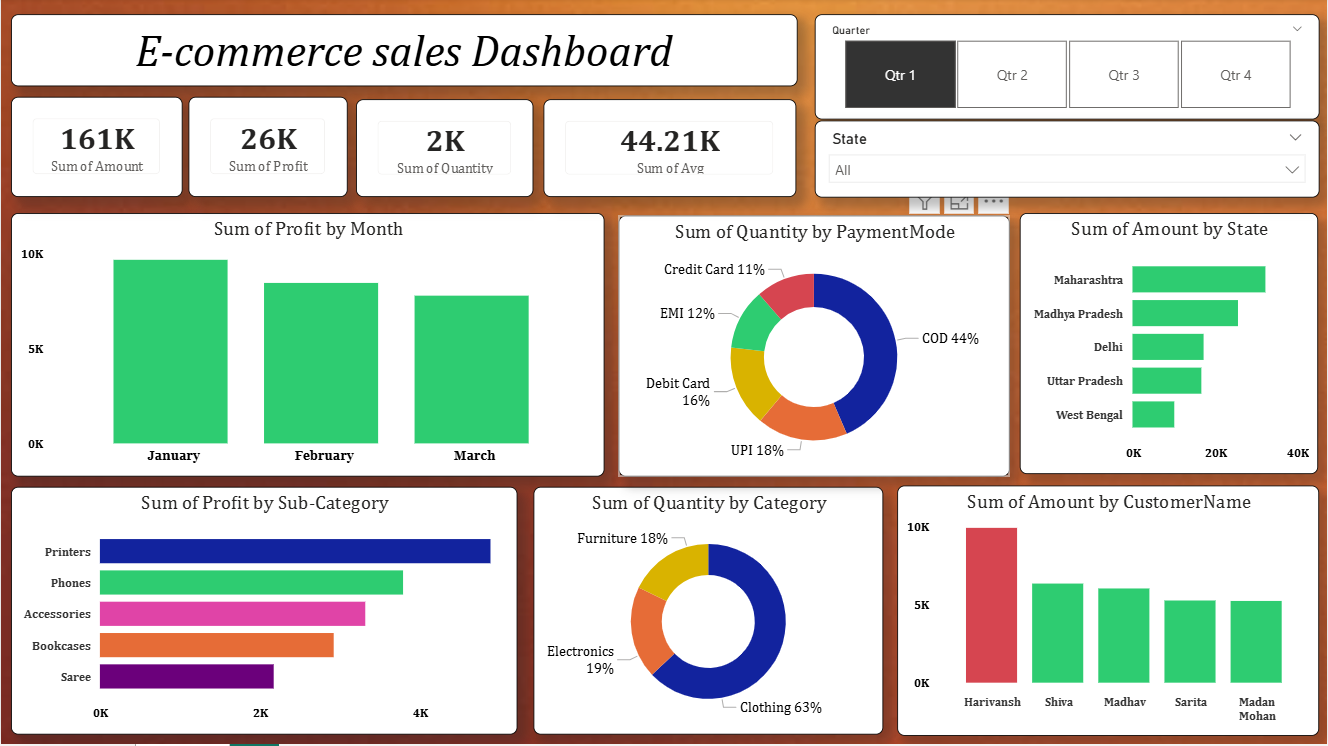

Layout of this report page (visuals, bound fields, positions):
{"tool":"powerbi","page":{"name":"Page 1","canvas":[1280,720],"ordinal":0},"visuals":[{"type":"textbox","box":[9.6,15.1,758.8,70],"z":0},{"type":"columnChart","fields":{"Y":["Sum(Details.Profit)"],"Category":["Orders.Order Date.Variation.Date Hierarchy.Month"]},"box":[9.7,207.5,573.1,254.6],"z":1000},{"type":"barChart","fields":{"Category":["Details.Sub-Category"],"Y":["Sum(Details.Profit)"]},"box":[9.7,471.7,488.6,238.9],"z":2000},{"type":"donutChart","fields":{"Category":["Details.Category"],"Y":["Sum(Details.Quantity)"]},"box":[513.9,471.7,337.8,238.9],"z":3000},{"type":"donutChart","fields":{"Y":["Sum(Details.Quantity)"],"Category":["Details.PaymentMode"]},"box":[596,209.9,377.6,252.1],"z":4000},{"type":"cardVisual","fields":{"Data":["Sum(Details.Amount)"]},"box":[9.7,95.3,165.3,96.5],"z":5000},{"type":"cardVisual","fields":{"Data":["Sum(Details.Profit)"]},"box":[181,95.3,153.2,96.5],"z":6000},{"type":"cardVisual","fields":{"Data":["Sum(Details.Quantity)"]},"box":[342.6,97.7,171.3,94.1],"z":7000},{"type":"cardVisual","fields":{"Data":["Sum(Details.Avg)"]},"box":[523.6,97.7,243.7,94.1],"z":8000},{"type":"barChart","fields":{"Category":["Orders.State"],"Y":["Sum(Details.Amount)"]},"box":[983.2,207.5,288.3,252.1],"z":9000},{"type":"columnChart","fields":{"Category":["Orders.CustomerName"],"Y":["Sum(Details.Amount)"]},"box":[864.5,470.7,407.5,241.5],"z":10000},{"type":"slicer","fields":{"Values":["Orders.Order Date.Variation.Date Hierarchy.Quarter"]},"box":[784.9,15.1,487.1,101.5],"z":11000},{"type":"slicer","fields":{"Values":["Orders.State"]},"box":[784.9,118,487.1,74.1],"z":12000}]}

Visuals, with their boxes in screenshot pixels (x1, y1, x2, y2), scaled from the page's 1280x720 canvas onto the 1328x746 screenshot:
textbox: (x1=10, y1=16, x2=797, y2=88)
columnChart - Sum(Details.Profit) x Orders.Order Date.Variation.Date Hierarchy.Month: (x1=10, y1=215, x2=605, y2=479)
barChart - Details.Sub-Category x Sum(Details.Profit): (x1=10, y1=489, x2=517, y2=736)
donutChart - Details.Category x Sum(Details.Quantity): (x1=533, y1=489, x2=884, y2=736)
donutChart - Sum(Details.Quantity) x Details.PaymentMode: (x1=618, y1=217, x2=1010, y2=479)
cardVisual - Sum(Details.Amount): (x1=10, y1=99, x2=182, y2=199)
cardVisual - Sum(Details.Profit): (x1=188, y1=99, x2=347, y2=199)
cardVisual - Sum(Details.Quantity): (x1=355, y1=101, x2=533, y2=199)
cardVisual - Sum(Details.Avg): (x1=543, y1=101, x2=796, y2=199)
barChart - Orders.State x Sum(Details.Amount): (x1=1020, y1=215, x2=1319, y2=476)
columnChart - Orders.CustomerName x Sum(Details.Amount): (x1=897, y1=488, x2=1320, y2=738)
slicer - Orders.Order Date.Variation.Date Hierarchy.Quarter: (x1=814, y1=16, x2=1320, y2=121)
slicer - Orders.State: (x1=814, y1=122, x2=1320, y2=199)
